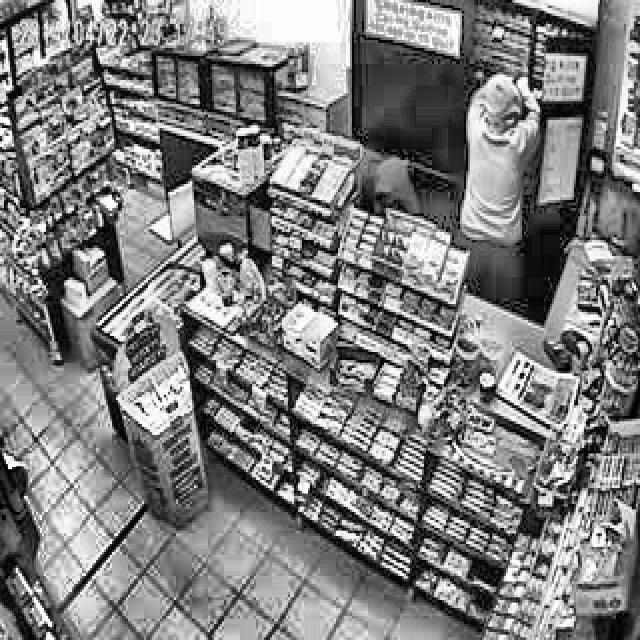robbery: (454, 65, 548, 306)
